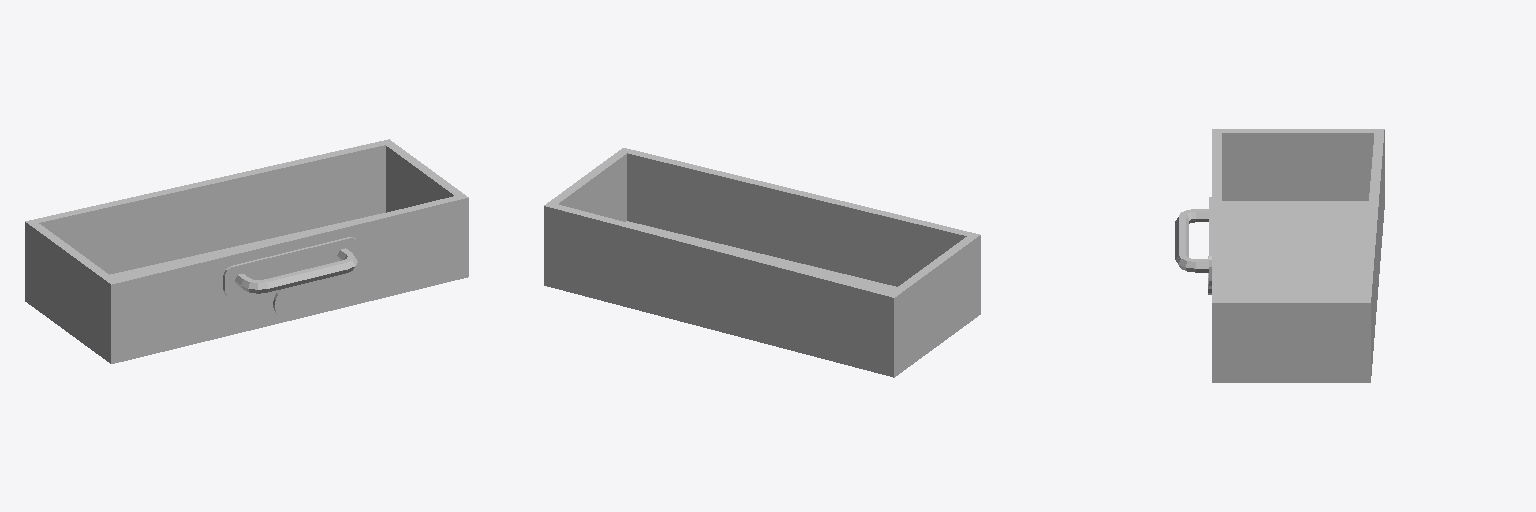
File: Gimmick_Drawer01_Non.obj
3 views of the same model, side by side, from view 1: azimuth 30°, elevation 25°; view 2: azimuth 150°, elevation 25°; view 3: azimuth 270°, elevation 25° (orthographic).
Parts seen in each view (by area): view 1: Gimmick_Drawer01_Non Gimmick; view 2: Gimmick_Drawer01_Non Gimmick; view 3: Gimmick_Drawer01_Non Gimmick.
Part boxes in pixels (x1,y1,x2,y2): Gimmick_Drawer01_Non Gimmick: (25,139,468,363); Gimmick_Drawer01_Non Gimmick: (544,148,980,377); Gimmick_Drawer01_Non Gimmick: (1175,129,1384,382).
Size of the model in its own units: 61 by 13 by 30.91.